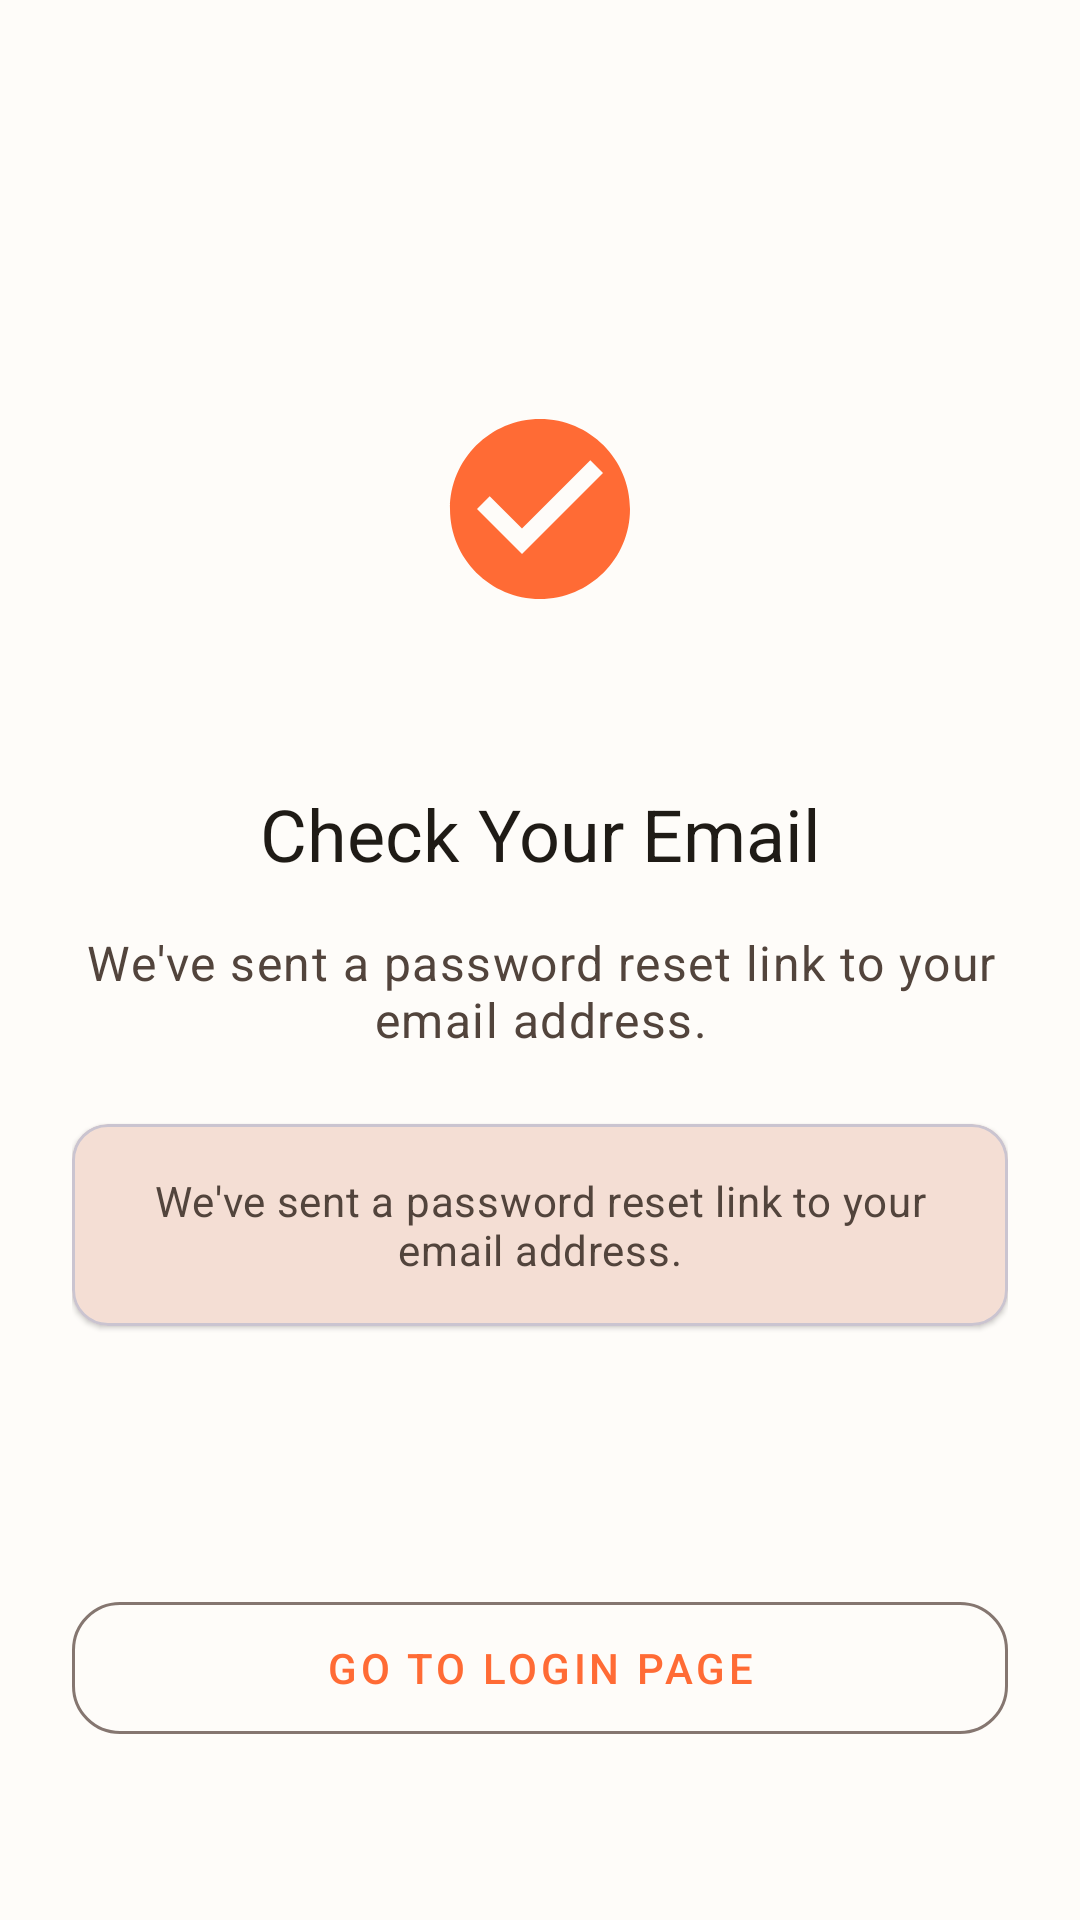

Icon click points for this 1080×1920 phone screenshot, format [x,y]:
Success Icon: [540,509]
